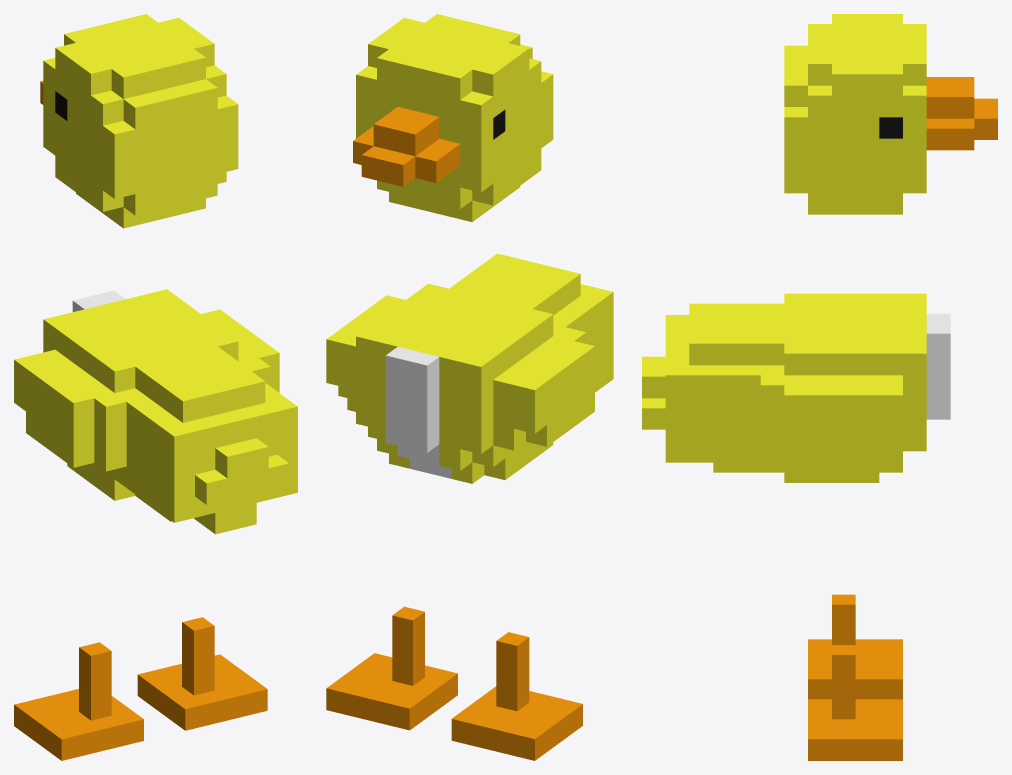
File: Duck.obj
3 views of the same model, side by side, from view 1: azimuth 30°, elevation 25°; view 2: azimuth 150°, elevation 25°; view 3: azimuth 270°, elevation 25° (orthographic).
Size of the model in its own units: 1 by 3.1 by 1.5.
1 material, 1 textured.
